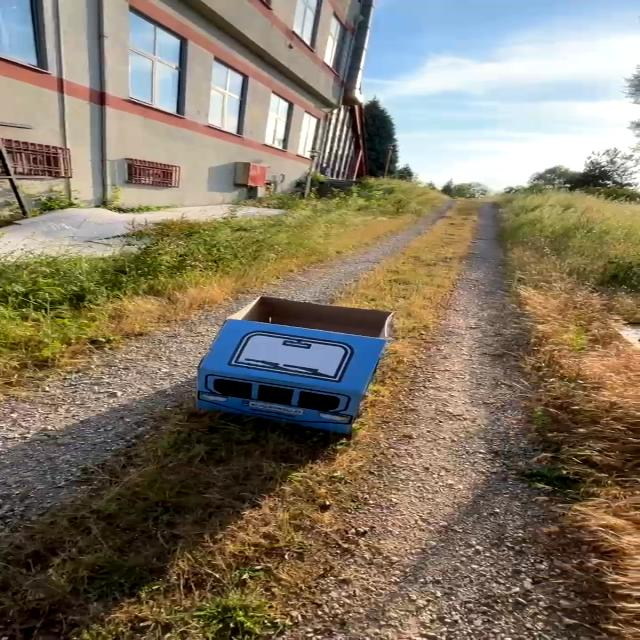blue_car: (108, 274, 457, 481)
